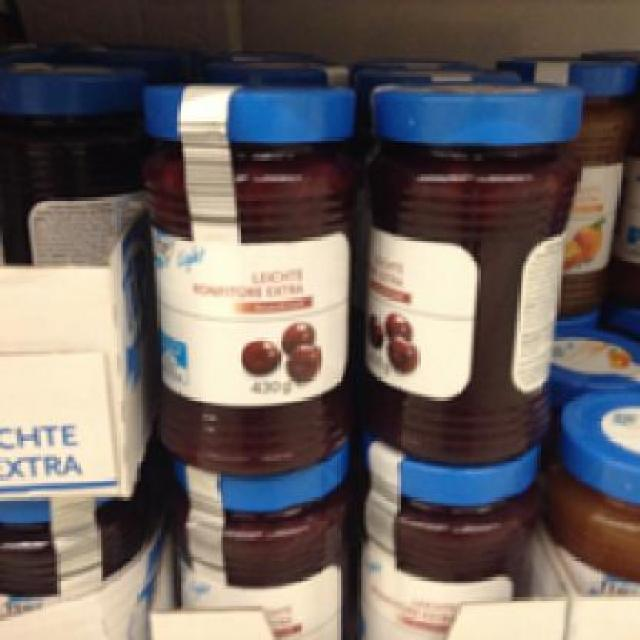Jam: (139, 77, 352, 466), (366, 77, 577, 452), (356, 437, 550, 632), (166, 452, 354, 638)
